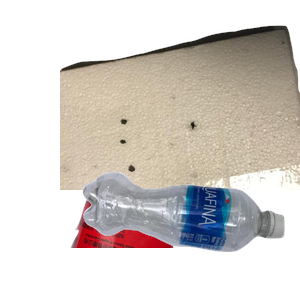glass: (68, 120, 255, 300)
paper: (68, 66, 215, 197)
plastic: (80, 169, 300, 300)
trash: (60, 23, 300, 203)
